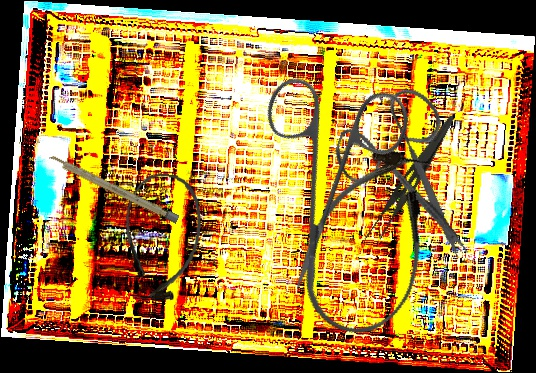Cannula: (286, 133, 455, 349), (116, 169, 207, 306)
Dressing Forceps: (361, 105, 457, 251)
Iris Scissors: (196, 33, 462, 298), (314, 72, 513, 263)
Scalpel Handle: (47, 153, 180, 224)
